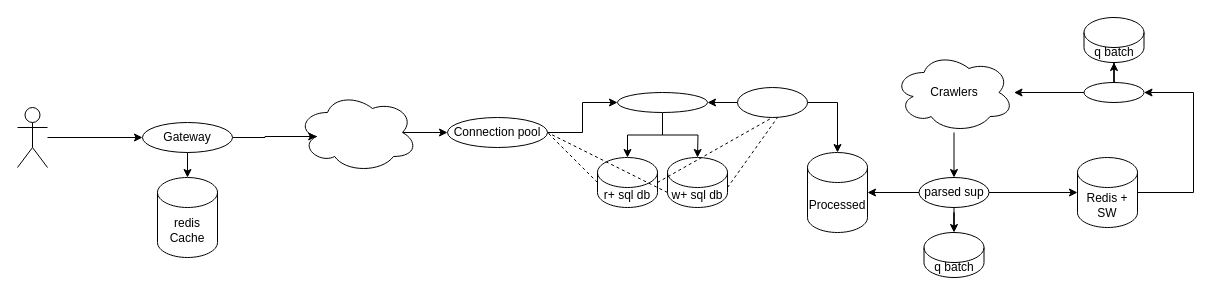
Some shapes in this 1219 by 295 pixel diagram are drawn without their labels. The shapes that lost their labels are listed below. From the top down, each one's box as (x1, y1, x2, y2) in pixels, then its label:
(616, 92, 708, 112): Acces sync
(736, 86, 808, 118): Updater
(1083, 82, 1144, 102): Visit sup
(16, 106, 48, 168): Actor
(296, 92, 418, 172): Services
